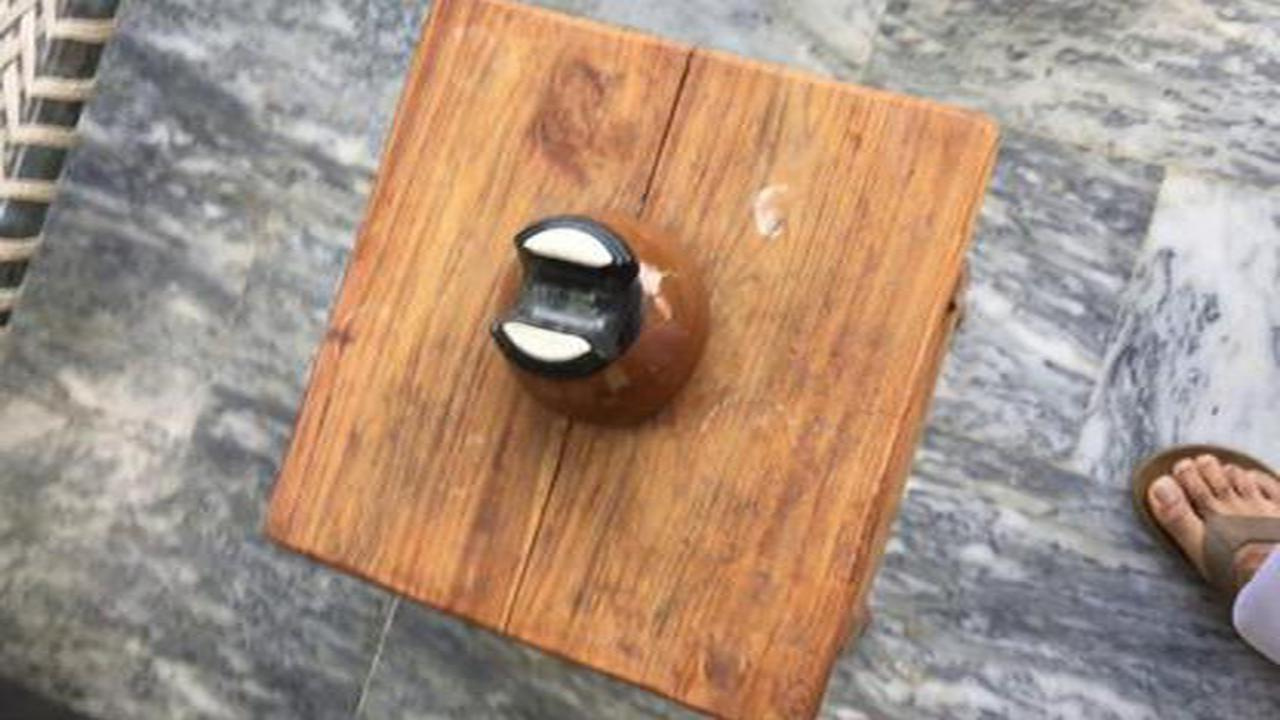insulator_pin: (462, 200, 739, 433)
